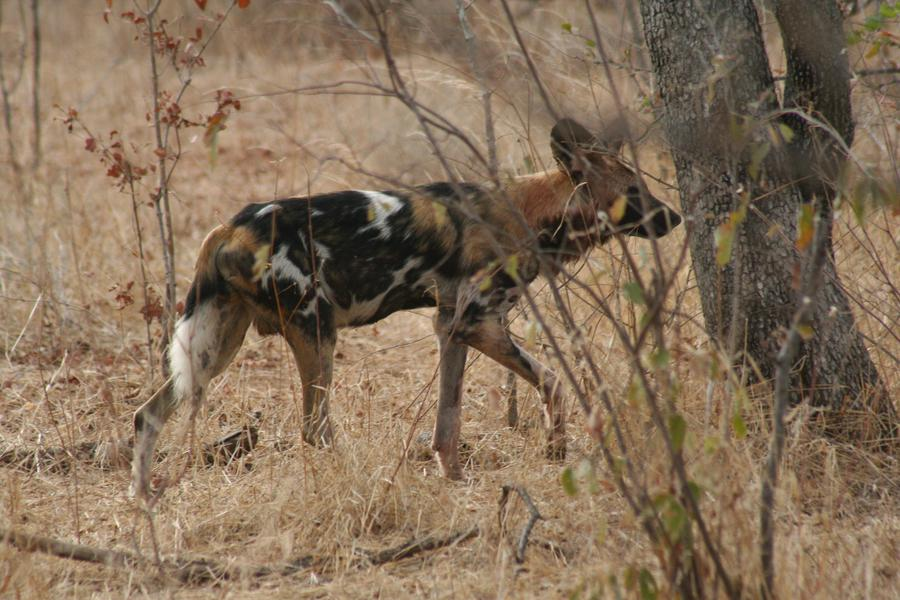wilddog: (188, 112, 656, 397)
